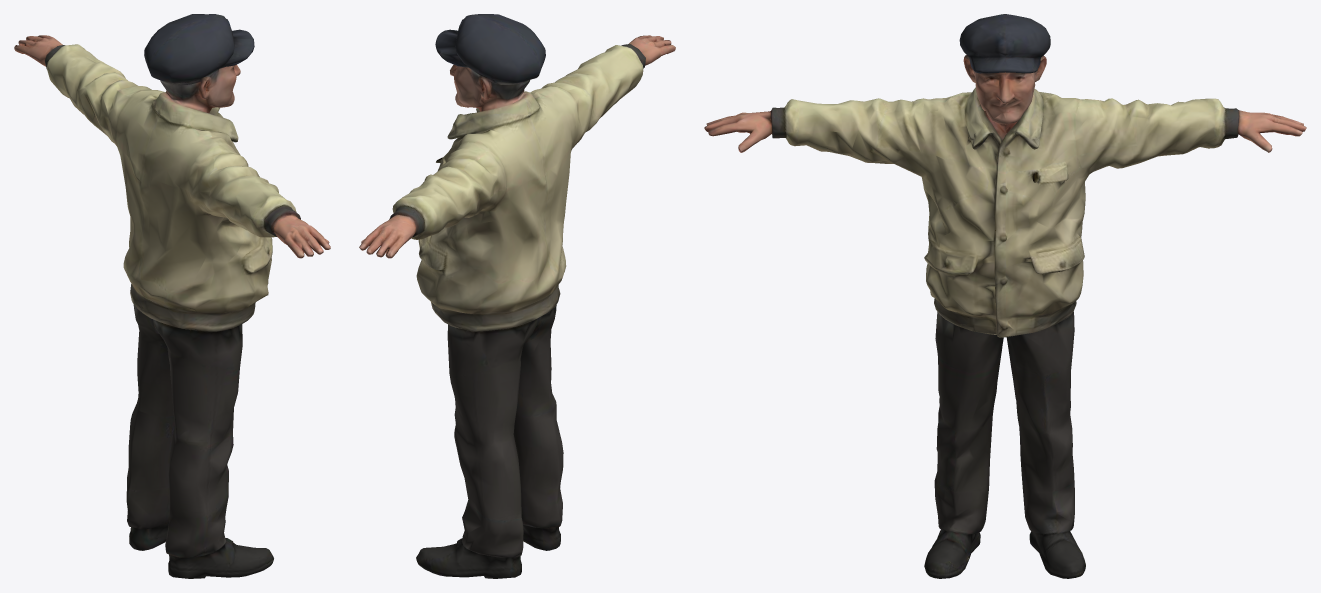
Rendered from oldM.glb.
3 renders of one model, left to right at view 1: azimuth 30°, elevation 25°; view 2: azimuth 150°, elevation 25°; view 3: azimuth 270°, elevation 25°, orthographic. The views are drawn at different scales.
Parts seen in each view (by area): view 1: tripo_node_f7a4c660-23f0-4afc-a1c8-295ce0ebb231; view 2: tripo_node_f7a4c660-23f0-4afc-a1c8-295ce0ebb231; view 3: tripo_node_f7a4c660-23f0-4afc-a1c8-295ce0ebb231.
Part boxes in pixels (left/top/right/bottom): tripo_node_f7a4c660-23f0-4afc-a1c8-295ce0ebb231: left=14, top=14, right=330, bottom=578; tripo_node_f7a4c660-23f0-4afc-a1c8-295ce0ebb231: left=359, top=14, right=675, bottom=578; tripo_node_f7a4c660-23f0-4afc-a1c8-295ce0ebb231: left=704, top=14, right=1306, bottom=578.
Size of the model in its own units: 0.2386 by 0.9974 by 1.
1 material, 1 textured.
